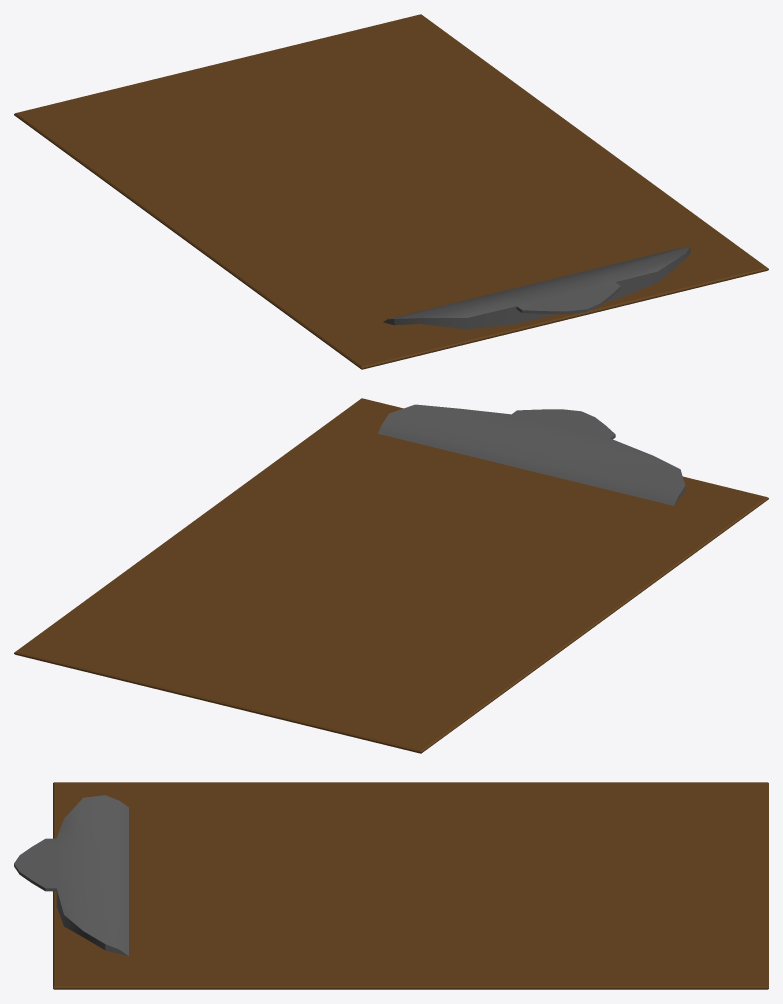
File: ClipBoard_High.FBX
3 views of the same model, one above another, from view 1: azimuth 30°, elevation 25°; view 2: azimuth 150°, elevation 25°; view 3: azimuth 270°, elevation 25° (orthographic). The views are drawn at different scales.
Parts seen in each view (by area): view 1: ClipBoard_high; view 2: ClipBoard_high; view 3: ClipBoard_high.
Boxes of the visible parts, box(x1,y1,x2,y2) form: ClipBoard_high: box(14, 14, 768, 369); ClipBoard_high: box(14, 398, 768, 753); ClipBoard_high: box(14, 782, 768, 989).
Size of the model in its own units: 15.6 by 0.9033 by 24.28.
